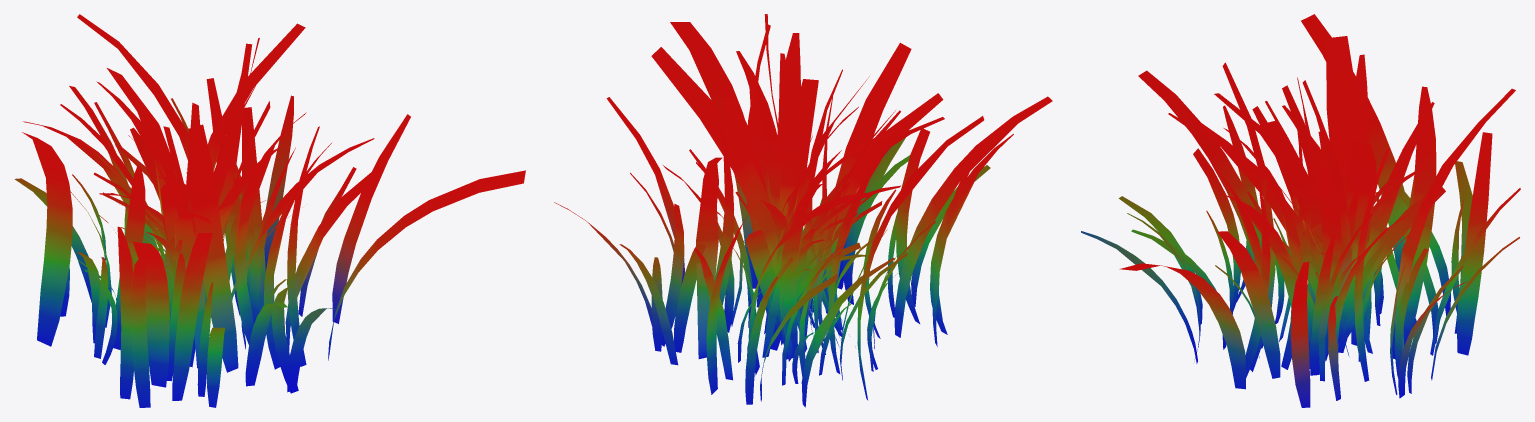
The model's file is Grass_01.FBX.
The picture shows the model from 3 angles, left to right: view 1: azimuth 30°, elevation 25°; view 2: azimuth 150°, elevation 25°; view 3: azimuth 270°, elevation 25°; orthographic projection. The views are drawn at different scales.
Parts seen in each view (by area): view 1: Grass_01; view 2: Grass_01; view 3: Grass_01.
Part boxes in pixels (x1,y1,x2,y2): Grass_01: (14,14,525,407); Grass_01: (554,14,1052,407); Grass_01: (1081,14,1520,407).
Bounding box in the file's own units: 47.05 × 34.25 × 45.97.
